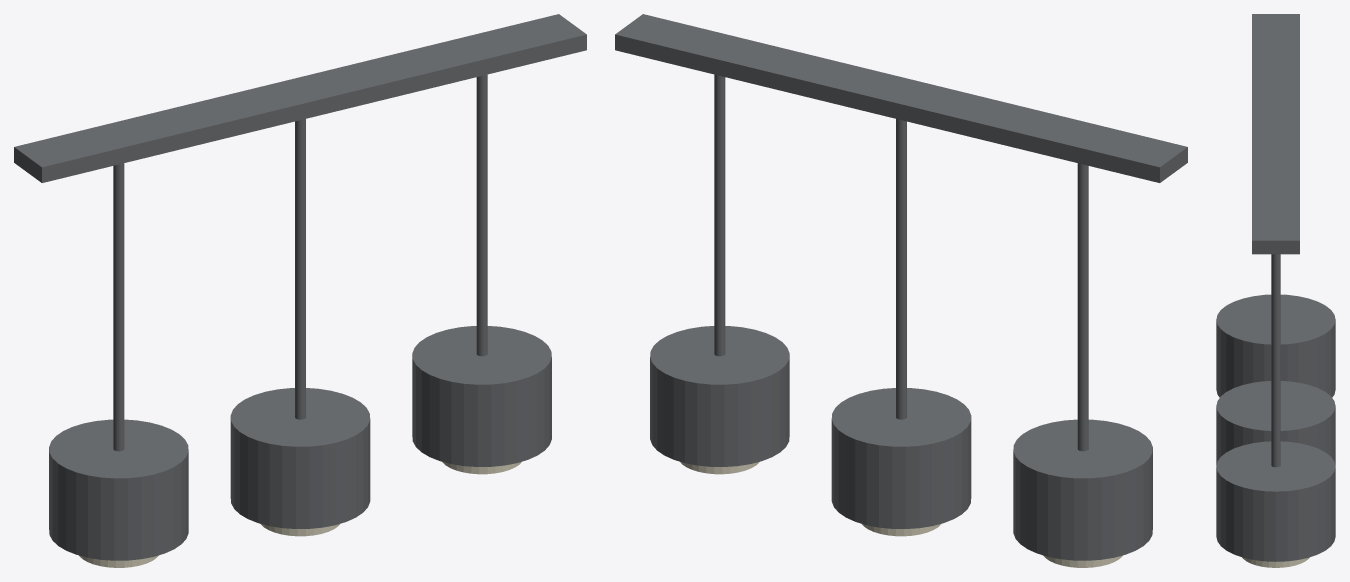
Rendered from pendant-triple.glb.
The picture shows the model from 3 angles, left to right: view 1: azimuth 30°, elevation 25°; view 2: azimuth 150°, elevation 25°; view 3: azimuth 270°, elevation 25°; orthographic projection. The views are drawn at different scales.
Visible parts, largest first — view 1: pendant-triple-0, pendant-triple-5, pendant-triple-8, pendant-triple-2, pendant-triple-1, pendant-triple-7, pendant-triple-4; view 2: pendant-triple-0, pendant-triple-5, pendant-triple-8, pendant-triple-2, pendant-triple-1, pendant-triple-7, pendant-triple-4; view 3: pendant-triple-8, pendant-triple-0, pendant-triple-2, pendant-triple-5, pendant-triple-7, pendant-triple-9.
Part boxes in pixels (<box>): pendant-triple-0: <box>14,14,586,182</box>; pendant-triple-5: <box>230,388,370,528</box>; pendant-triple-8: <box>412,326,551,466</box>; pendant-triple-2: <box>49,419,188,560</box>; pendant-triple-1: <box>113,163,124,451</box>; pendant-triple-7: <box>476,74,487,356</box>; pendant-triple-4: <box>295,119,305,419</box>; pendant-triple-0: <box>615,14,1187,182</box>; pendant-triple-5: <box>831,388,971,528</box>; pendant-triple-8: <box>650,326,789,466</box>; pendant-triple-2: <box>1013,419,1152,560</box>; pendant-triple-1: <box>1077,163,1088,451</box>; pendant-triple-7: <box>714,74,725,356</box>; pendant-triple-4: <box>896,119,906,419</box>; pendant-triple-8: <box>1216,441,1335,561</box>; pendant-triple-0: <box>1252,14,1299,254</box>; pendant-triple-2: <box>1216,294,1335,397</box>; pendant-triple-5: <box>1216,381,1335,465</box>; pendant-triple-7: <box>1271,254,1280,467</box>; pendant-triple-9: <box>1242,557,1309,567</box>.
Size of the model in its own units: 0.9 by 0.6755 by 0.2.
